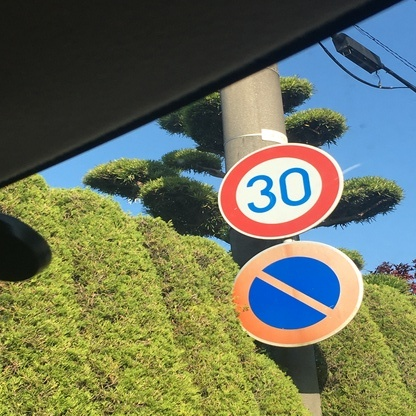Prohibition_sign: (226, 239, 363, 344)
Speed_sign: (211, 137, 352, 238)
